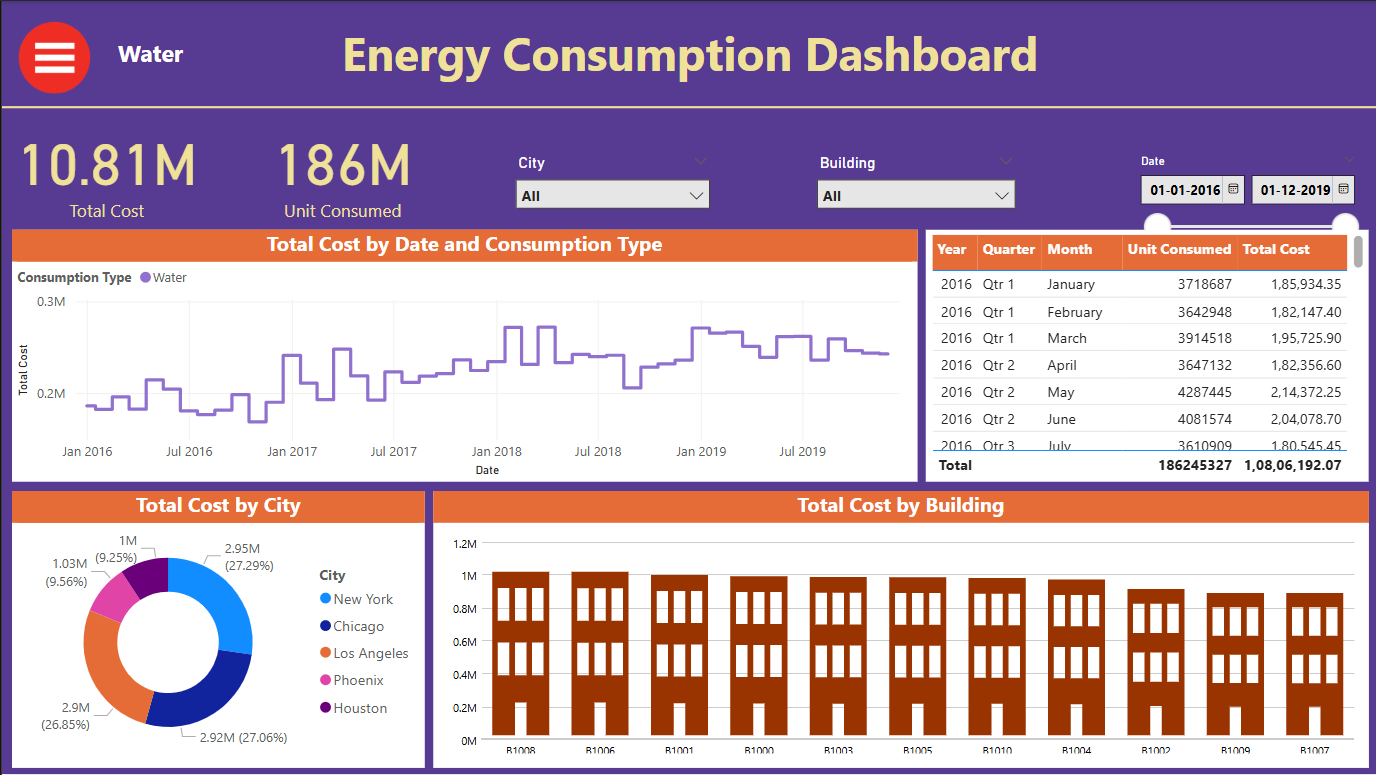

Layout of this report page (visuals, bound fields, positions):
{"tool":"powerbi","page":{"name":"Water","canvas":[1280,720],"ordinal":1},"visuals":[{"type":"shape","box":[0,83.6,1280,30.2],"z":0},{"type":"image","box":[8.3,14.2,81.6,76.8],"z":1000},{"type":"textbox","box":[290.3,14.4,698.4,69],"z":2000},{"type":"textbox","box":[82.5,28.8,111.2,39.3],"z":3000},{"type":"card","fields":{"Values":["Energy Consumptions.Total Cost"]},"box":[2.9,98.8,190.8,115.1],"z":4000},{"type":"card","fields":{"Values":["Energy Consumptions.Unit Consumed"]},"box":[212.9,98.8,209,115.1],"z":5000},{"type":"slicer","fields":{"Values":["Energy Consumptions.Building"]},"box":[747.9,137.1,205.2,63.3],"z":6000},{"type":"slicer","fields":{"Values":["Building Master.City"]},"box":[466.9,137.1,201.3,63.3],"z":7000},{"type":"slicer","fields":{"Values":["Energy Consumptions.Date"]},"box":[1047,137.1,224.4,93],"z":8000},{"type":"lineChart","fields":{"Category":["Energy Consumptions.Date"],"Y":["Energy Consumptions.Total Cost"],"Series":["Energy Consumptions.Consumption Type"]},"box":[8.8,213.4,842,234.4],"z":9000},{"type":"donutChart","fields":{"Y":["Energy Consumptions.Total Cost"],"Category":["Building Master.City"]},"box":[8.8,455.7,383.7,257.3],"z":10000},{"type":"PBI_CV_73744D90_4DC9_4F18_8BA5_EE8FA5C98035","fields":{"Values":["Energy Consumptions.Total Cost"],"Category":["Energy Consumptions.Building"]},"box":[401.3,455.7,870.1,257.3],"z":11000},{"type":"tableEx","fields":{"Values":["Energy Consumptions.Date.Variation.Date Hierarchy.Year","Energy Consumptions.Date.Variation.Date Hierarchy.Quarter","Energy Consumptions.Date.Variation.Date Hierarchy.Month","Energy Consumptions.Unit Consumed","Energy Consumptions.Total Cost"]},"box":[859.6,213.4,411.8,234.4],"z":12000},{"type":"actionButton","box":[3.1,9.4,91.5,74.9],"z":15000}]}

Visuals, with their boxes in screenshot pixels (x1, y1, x2, y2), scaled from the page's 1280x720 canvas onto the 1376x775 screenshot:
shape: left=0, top=90, right=1375, bottom=122
image: left=9, top=15, right=97, bottom=98
textbox: left=312, top=16, right=1063, bottom=90
textbox: left=89, top=31, right=208, bottom=73
card - Energy Consumptions.Total Cost: left=3, top=106, right=208, bottom=230
card - Energy Consumptions.Unit Consumed: left=229, top=106, right=454, bottom=230
slicer - Energy Consumptions.Building: left=804, top=148, right=1025, bottom=216
slicer - Building Master.City: left=502, top=148, right=718, bottom=216
slicer - Energy Consumptions.Date: left=1126, top=148, right=1367, bottom=248
lineChart - Energy Consumptions.Date x Energy Consumptions.Total Cost: left=9, top=230, right=915, bottom=482
donutChart - Energy Consumptions.Total Cost x Building Master.City: left=9, top=491, right=422, bottom=767
PBI_CV_73744D90_4DC9_4F18_8BA5_EE8FA5C98035 - Energy Consumptions.Total Cost x Energy Consumptions.Building: left=431, top=491, right=1367, bottom=767
tableEx - Energy Consumptions.Date.Variation.Date Hierarchy.Year x Energy Consumptions.Date.Variation.Date Hierarchy.Quarter: left=924, top=230, right=1367, bottom=482
actionButton: left=3, top=10, right=102, bottom=91
